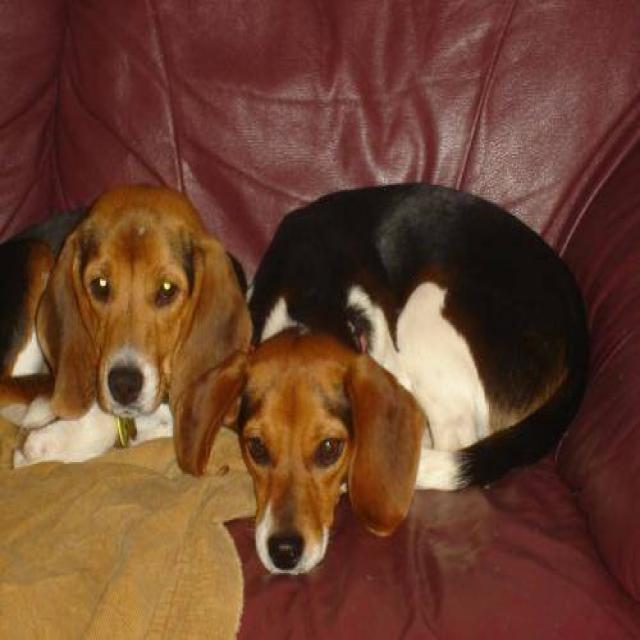adult_dog: (172, 185, 587, 574), (1, 182, 253, 469)
